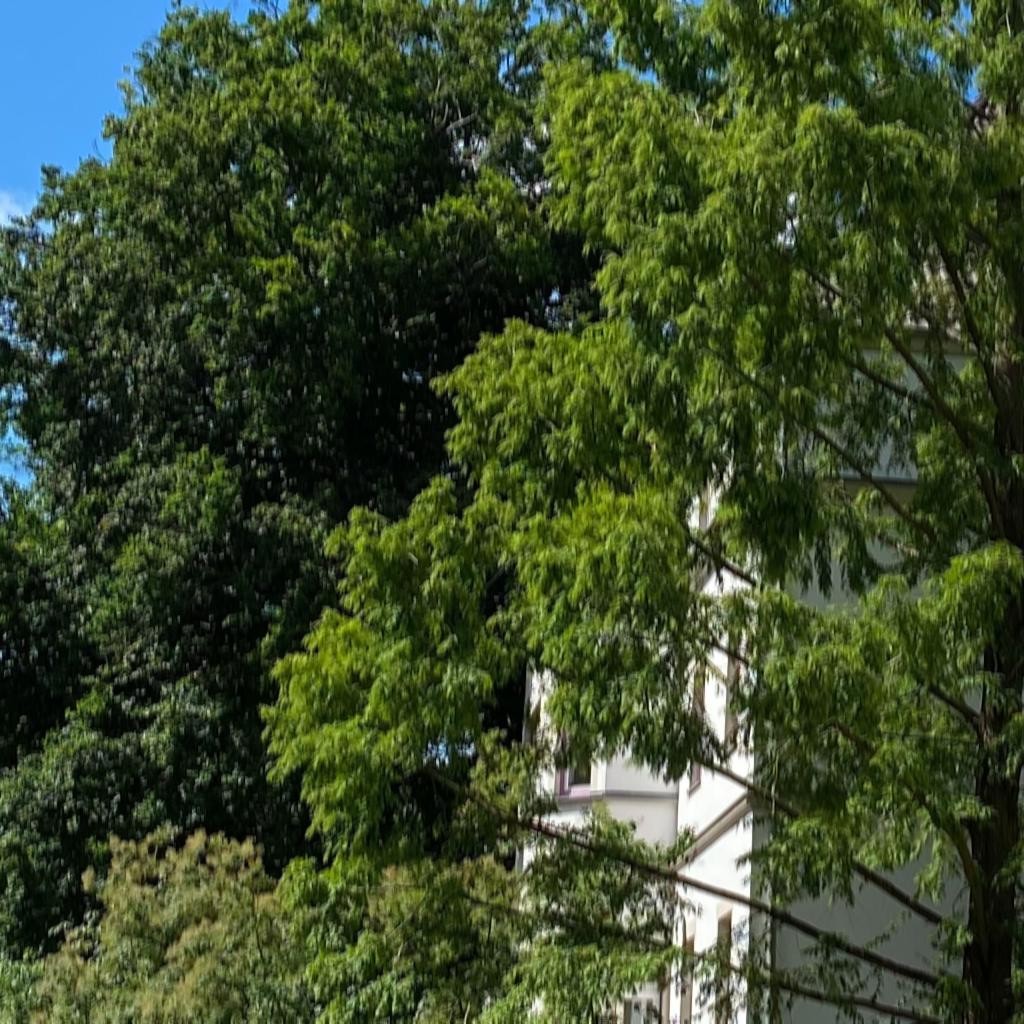tree: (258, 1, 1024, 1023), (1, 1, 623, 960)
